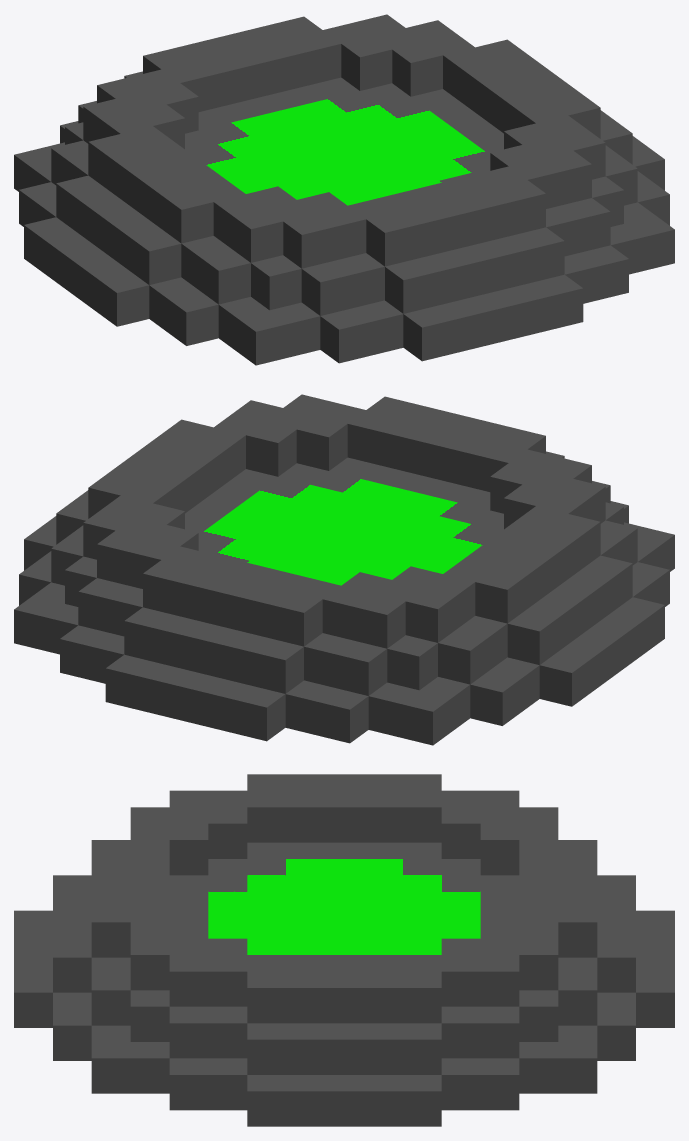
File: ToxicCrater1.dae
The picture shows the model from 3 angles, top to bottom: view 1: azimuth 30°, elevation 25°; view 2: azimuth 150°, elevation 25°; view 3: azimuth 270°, elevation 25°; orthographic projection. The views are drawn at different scales.
Visible parts, largest first — view 1: toxiccrater1.merged; view 2: toxiccrater1.merged; view 3: toxiccrater1.merged.
Boxes of the visible parts, x1,y1,x2,y2 form: toxiccrater1.merged: (14,14,674,365); toxiccrater1.merged: (14,394,674,745); toxiccrater1.merged: (14,774,674,1126).
Bounding box in the file's own units: 1.7 × 0.3 × 1.7.
1 material, 1 textured.
